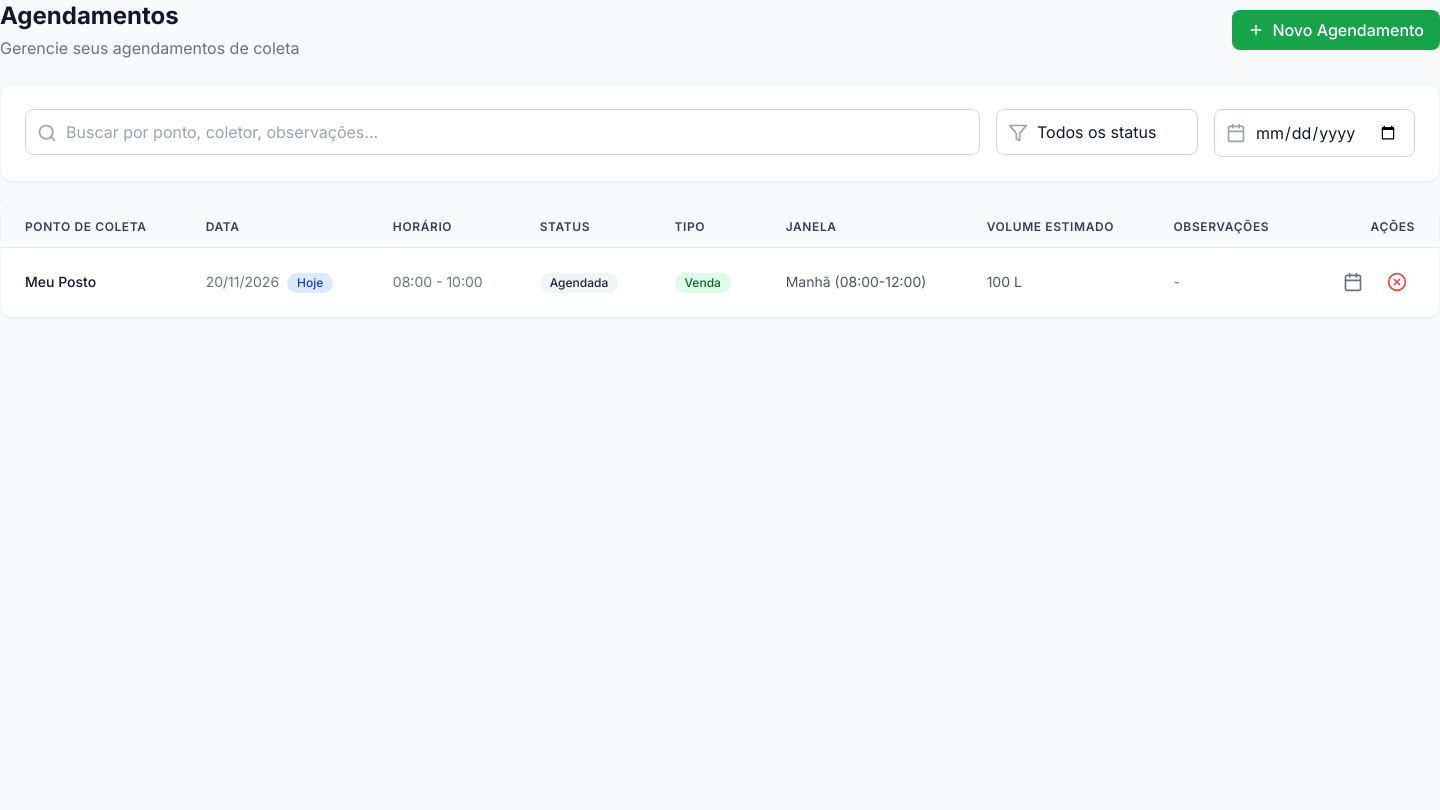
Test: SchedulesPage › for ESTABLISHMENT role › enables cancel confirm button with reason
The width and height of the screenshot is (1440, 810).
Click the button titled "Cancelar".
click(1397, 282)  # box [1379,264,1415,300]
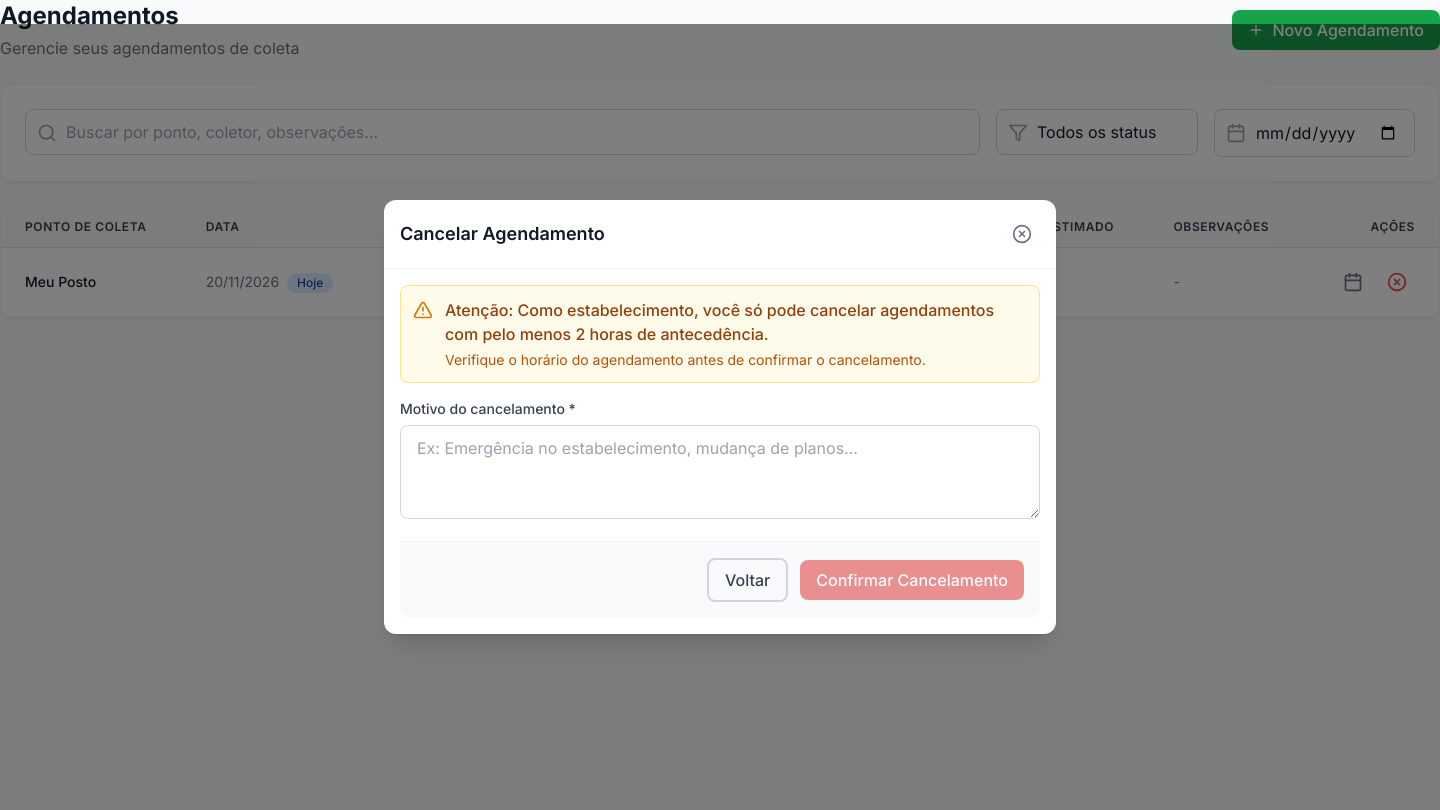
Type "Teste de cancelamento" into the text box with placeholder "Ex: Emergência no estabelecimento, mudança de planos...".
click(720, 472); type("Teste de cancelamento")  # box [400,425,1040,519]
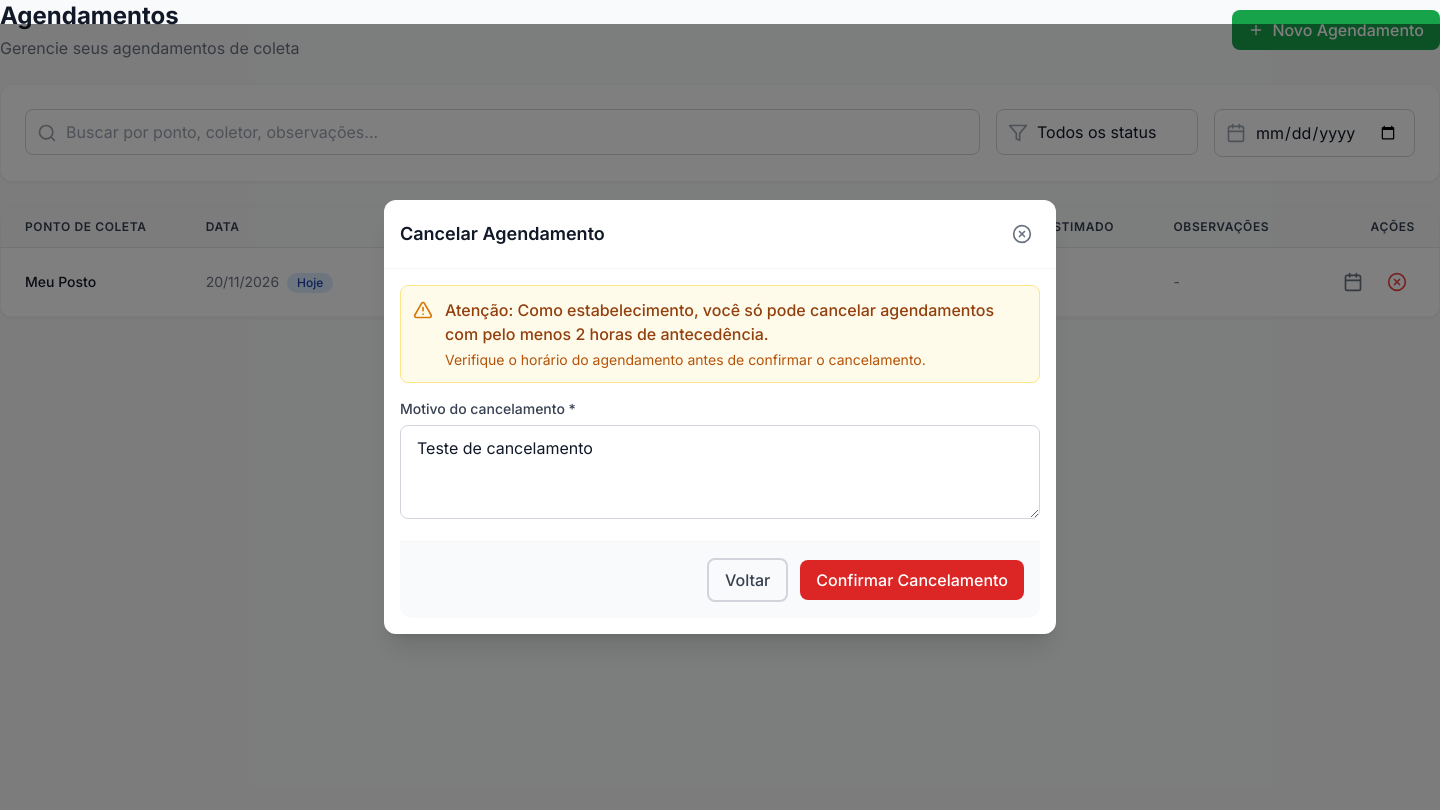
Now the button "Confirmar Cancelamento" is enabled, box [800,560,1024,600]
